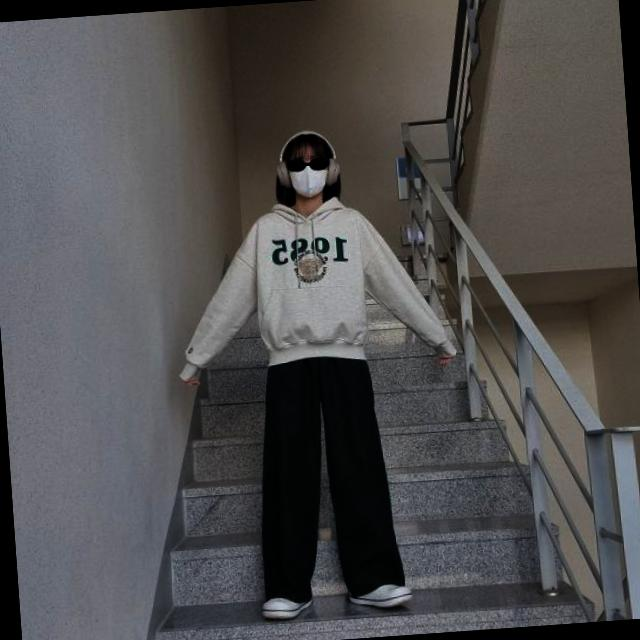hoodies: (174, 182, 464, 377)
slacks: (248, 354, 408, 608)
